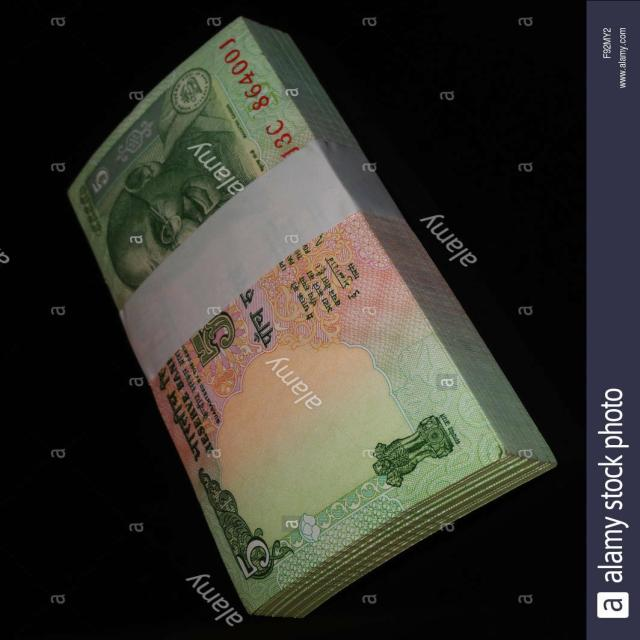5IndianRupees: (56, 46, 516, 542)
